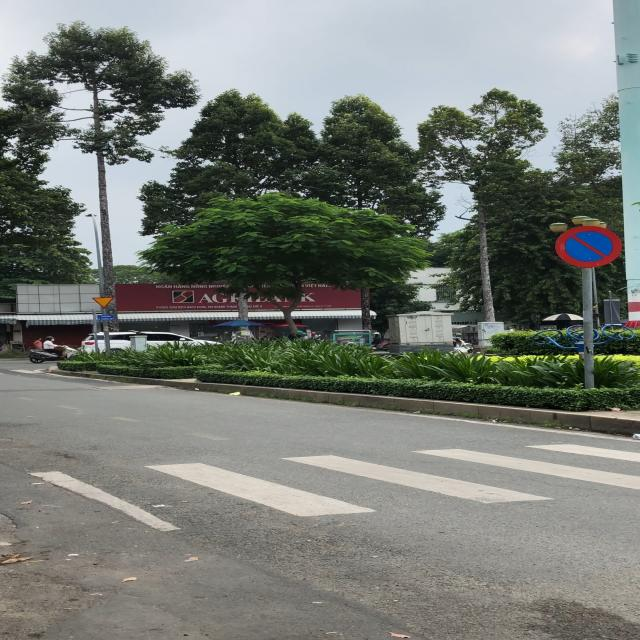Bien bao cam do xe: (552, 224, 629, 270)
Bien bao giao nhau voi duong uu tien: (90, 296, 115, 309)
